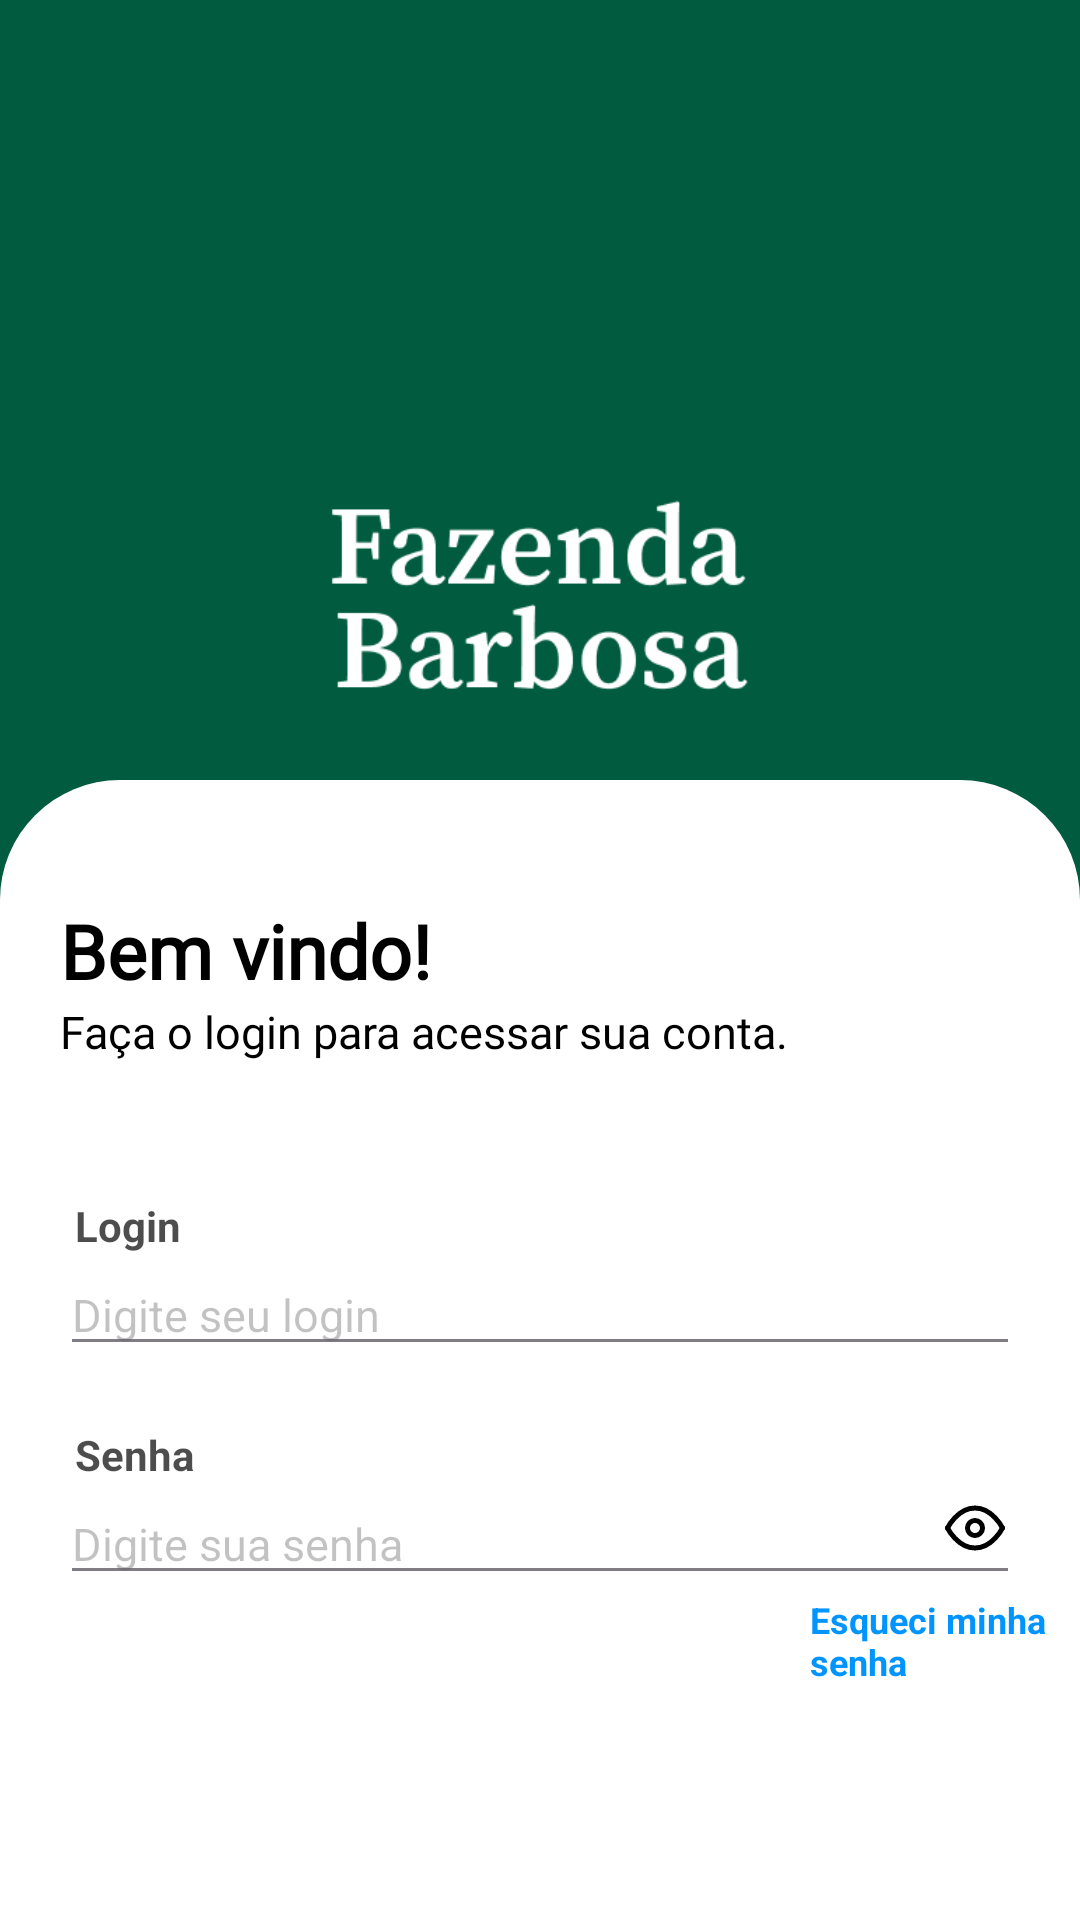

Named icons in this screenshot (1080 x 1920) and their bounding boxes, (x1, y1, x2, y2):
password on: (945, 1505, 1005, 1551)
